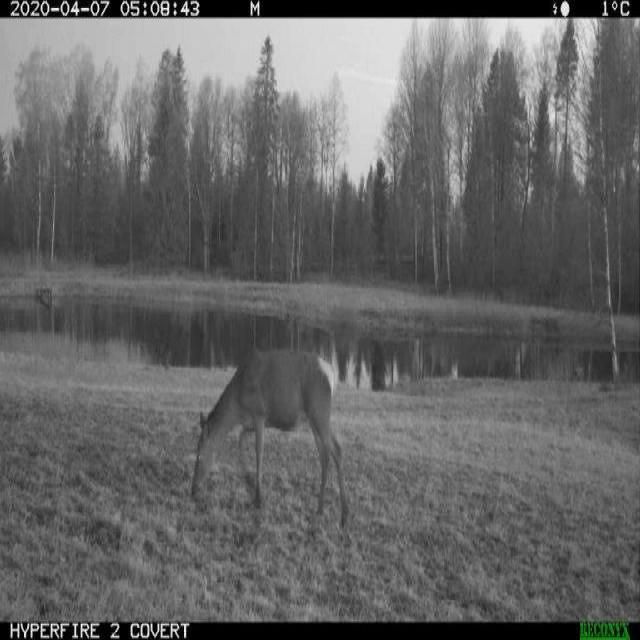deer: (187, 343, 356, 533)
